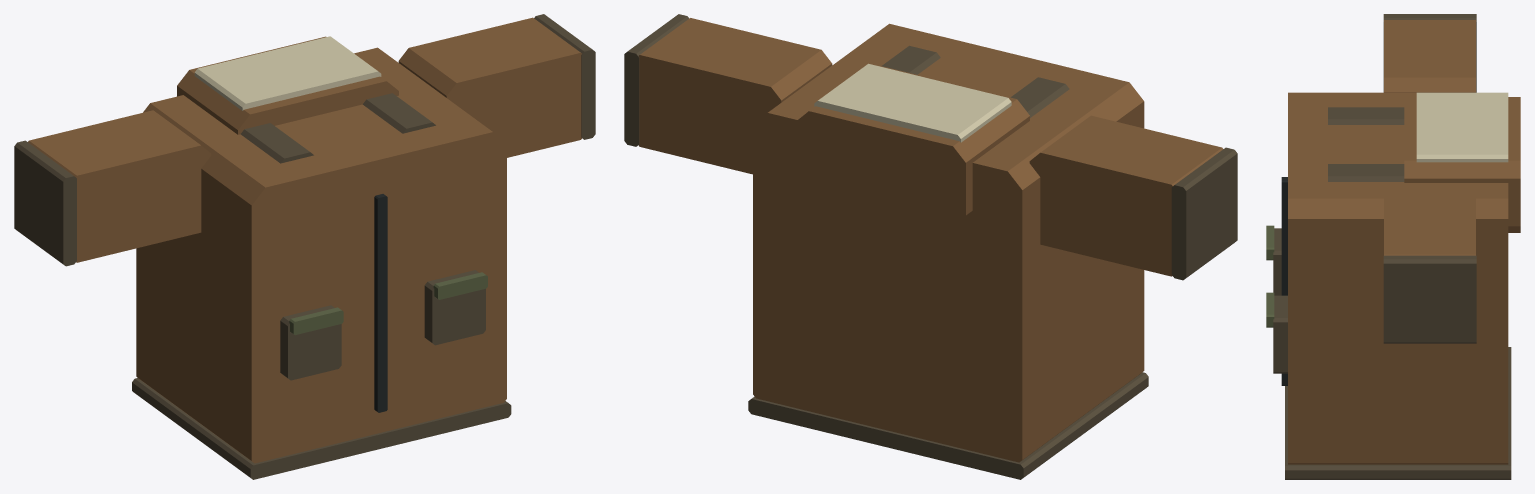
The model's file is Parka.gltf.
3 renders of one model, left to right at view 1: azimuth 30°, elevation 25°; view 2: azimuth 150°, elevation 25°; view 3: azimuth 270°, elevation 25°, orthographic. The views are drawn at different scales.
Parts seen in each view (by area): view 1: Body, SleeveRight, SleeveLeft; view 2: Body, SleeveRight, SleeveLeft; view 3: Body, SleeveLeft, SleeveRight.
Part boxes in pixels (bbox=[...]): Body: bbox=[132, 36, 511, 479]; SleeveRight: bbox=[14, 110, 211, 266]; SleeveLeft: bbox=[398, 14, 595, 157]; Body: bbox=[748, 23, 1148, 479]; SleeveRight: bbox=[1029, 115, 1237, 280]; SleeveLeft: bbox=[624, 14, 832, 174]; Body: bbox=[1266, 92, 1520, 479]; SleeveLeft: bbox=[1383, 196, 1476, 343]; SleeveRight: bbox=[1383, 14, 1476, 92].
Bounding box in the file's own units: 0.959 × 0.535 × 0.4155.
